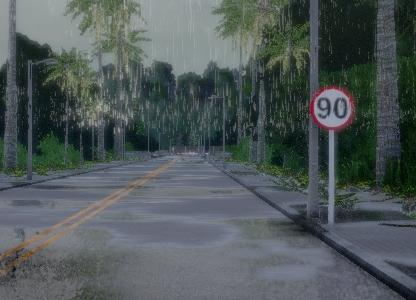Speed_90: (309, 84, 358, 131)
